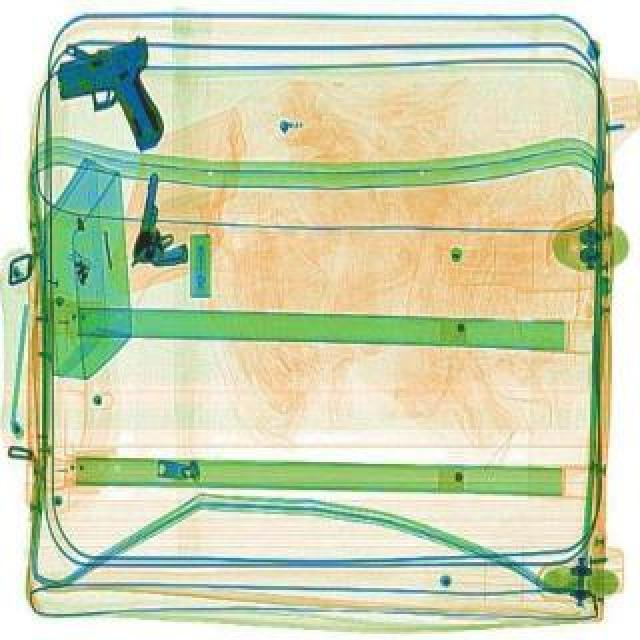gun: (48, 24, 192, 166), (130, 166, 204, 274)
